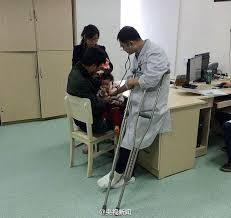crutches: (97, 26, 171, 218)
